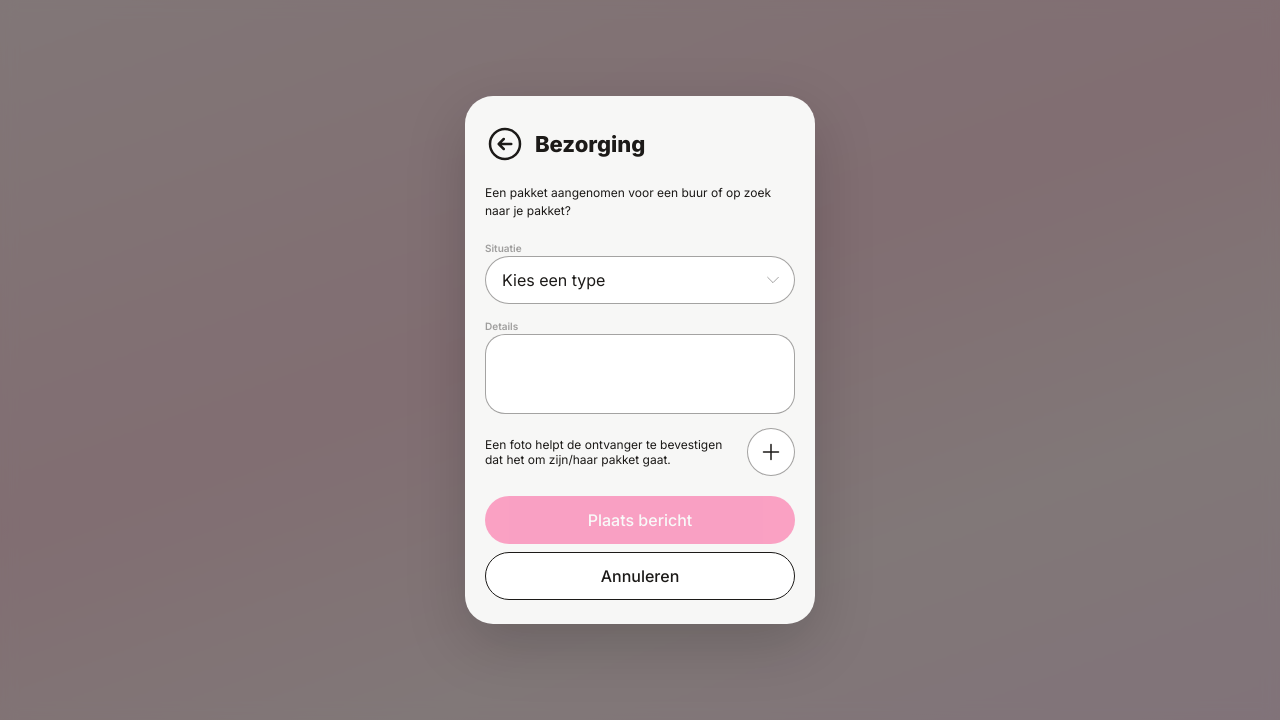
Test: NewPostSheet (FRE-316 extraction) › bezorging + pakket_aangenomen: labels the house-number fields "Voor huisnummer"/"Toevoeging" (FRE-378) and shows the static intro text (revised 2026-07-18, conf
Select "Pakket aangenomen" in the dropdown. click: {"x": 640, "y": 280}
box: [485,256,795,304]
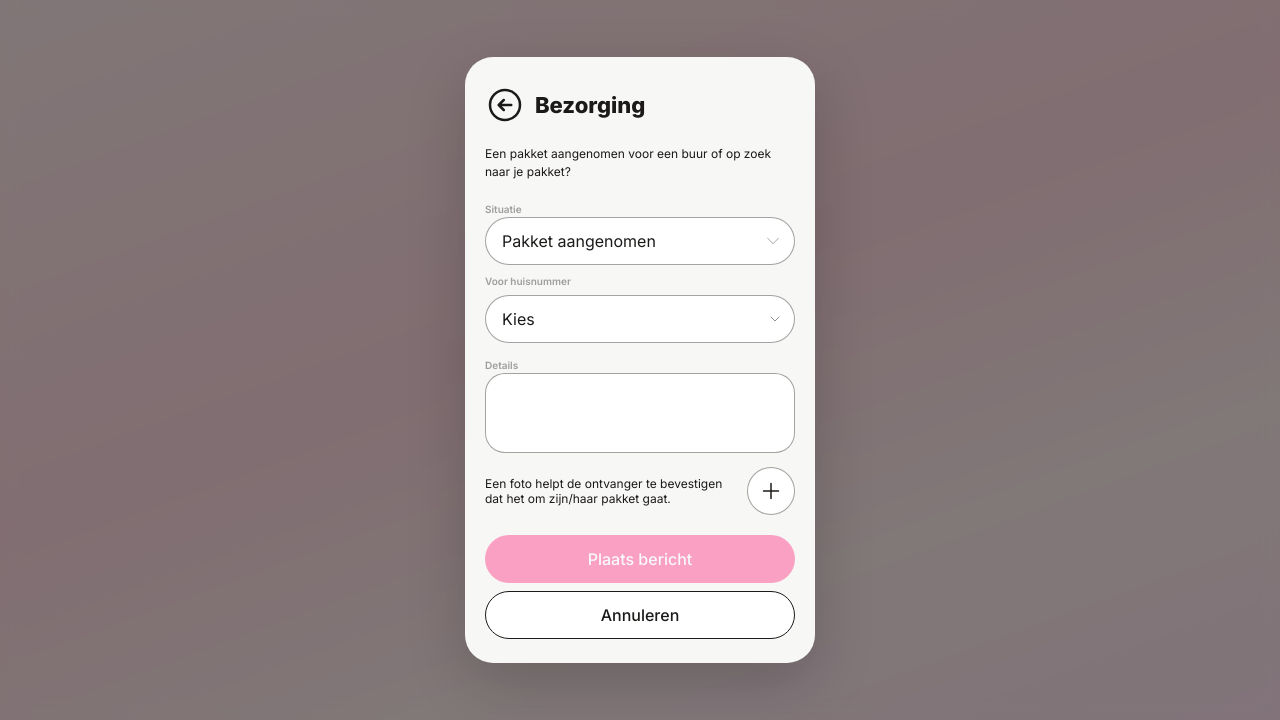
Expected: the text "Een pakket aangenomen voor een buur of op zoek naar je pakket?" is shown, [485,145,795,181]
Now the text "Voor huisnummer" is shown, box [485,275,571,287]
